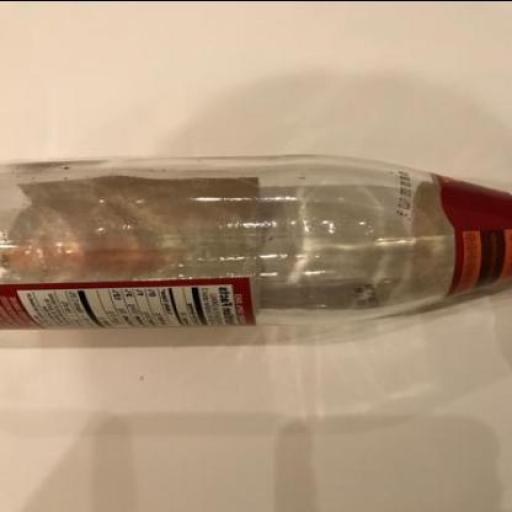glass: (1, 152, 511, 326)
